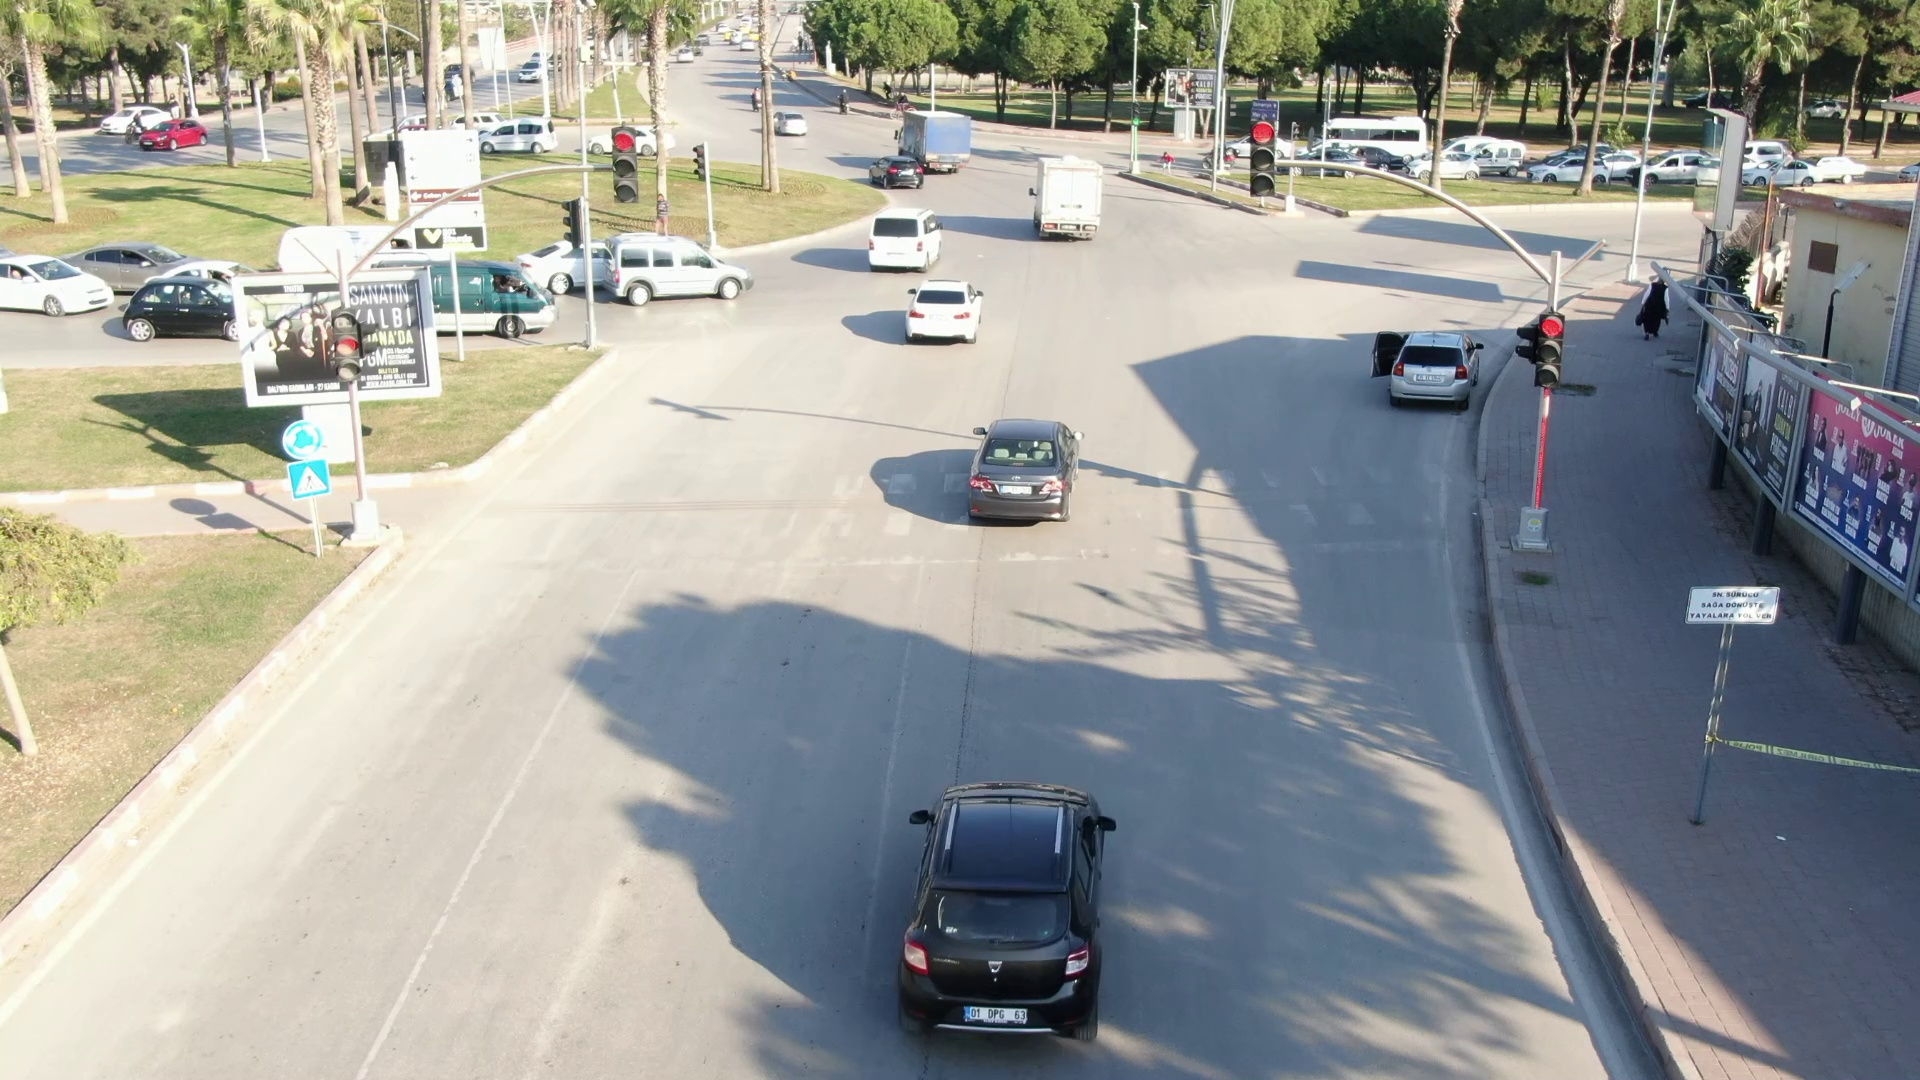car: (825, 750, 1171, 1045), (958, 406, 1095, 530), (599, 225, 760, 306), (1369, 318, 1486, 420), (1019, 146, 1109, 252), (897, 272, 992, 351), (886, 101, 980, 179), (863, 202, 958, 276), (863, 153, 934, 190)
person: (1624, 260, 1678, 349)
